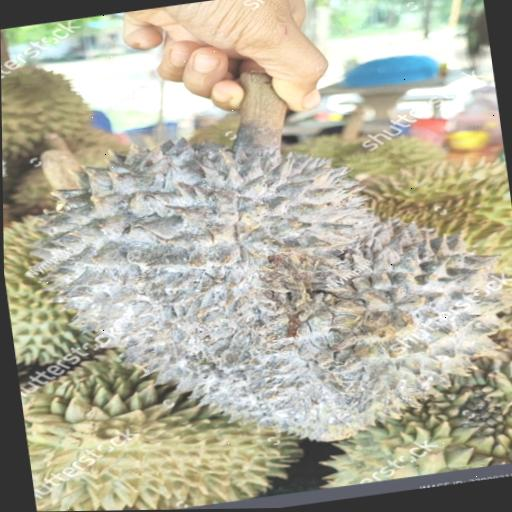mold: (27, 122, 500, 441)
rot: (448, 385, 512, 441)
